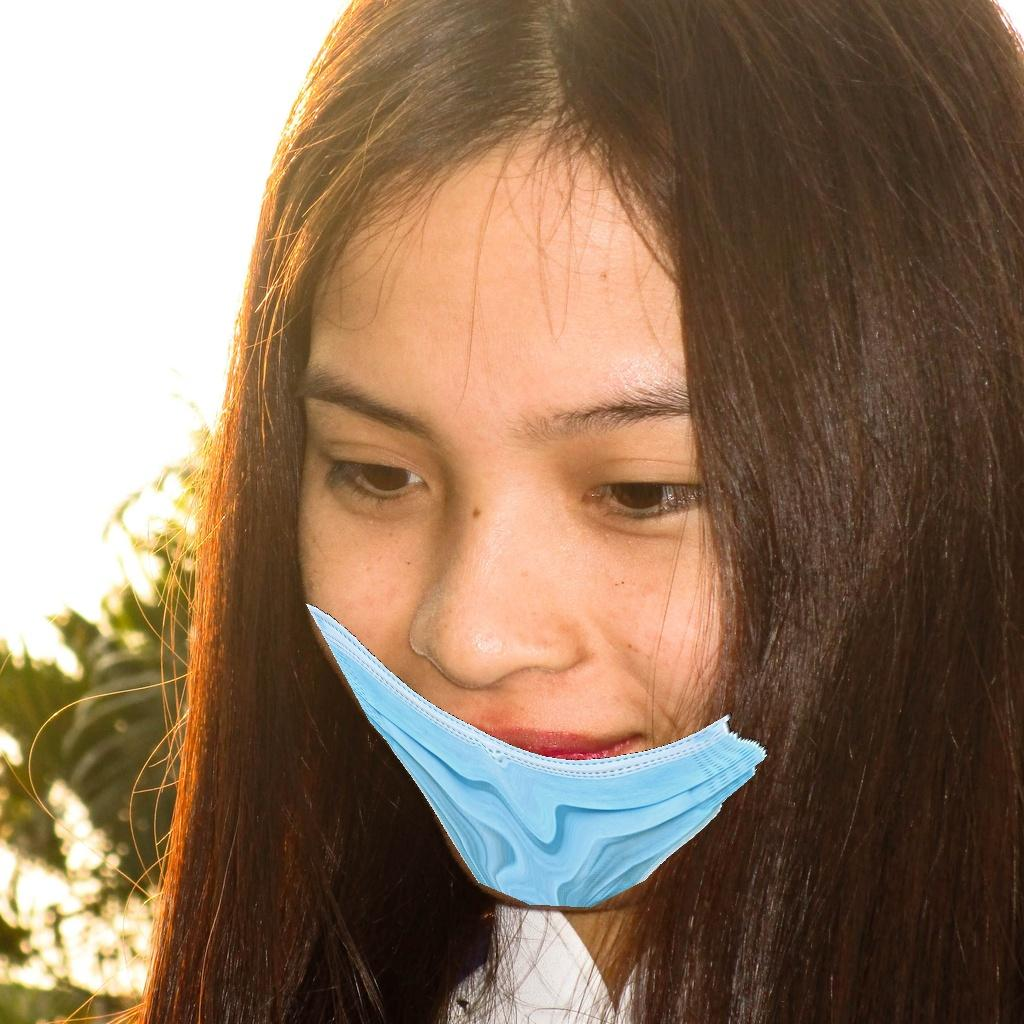Máscara Incorreta: (298, 241, 799, 903)
